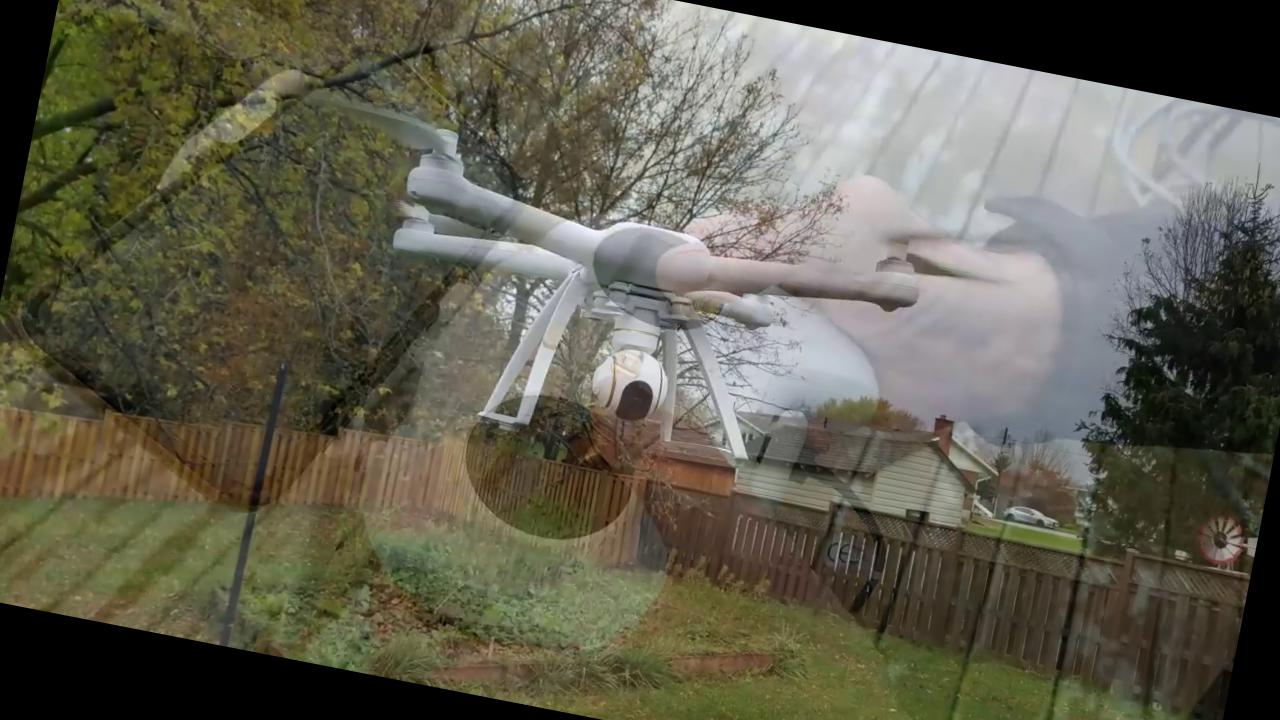drone: (274, 46, 1005, 480)
